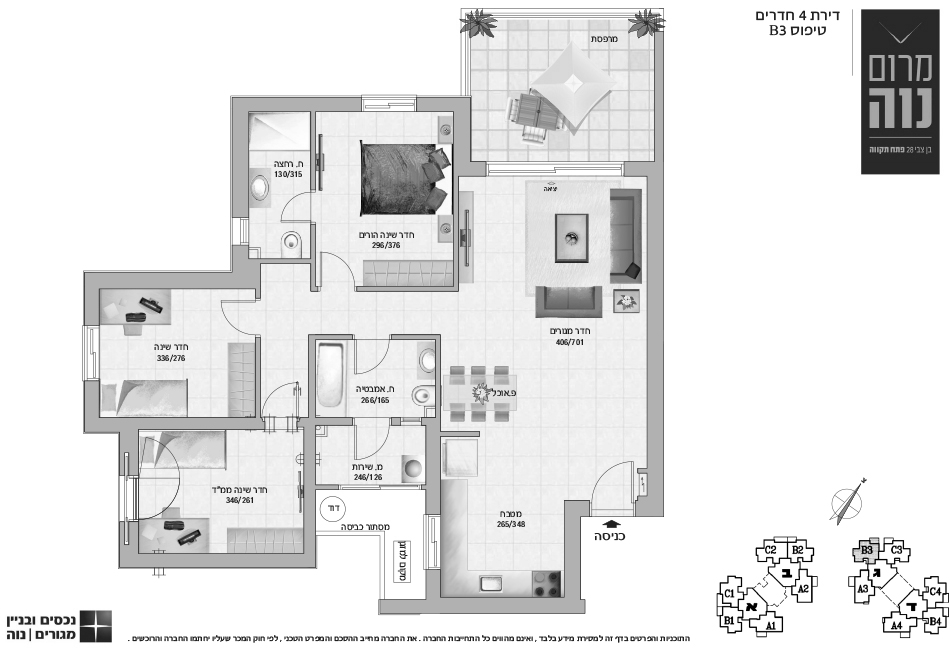room: (120, 418, 315, 569), (310, 96, 458, 291), (84, 272, 261, 430), (308, 334, 441, 425), (304, 417, 441, 490)
